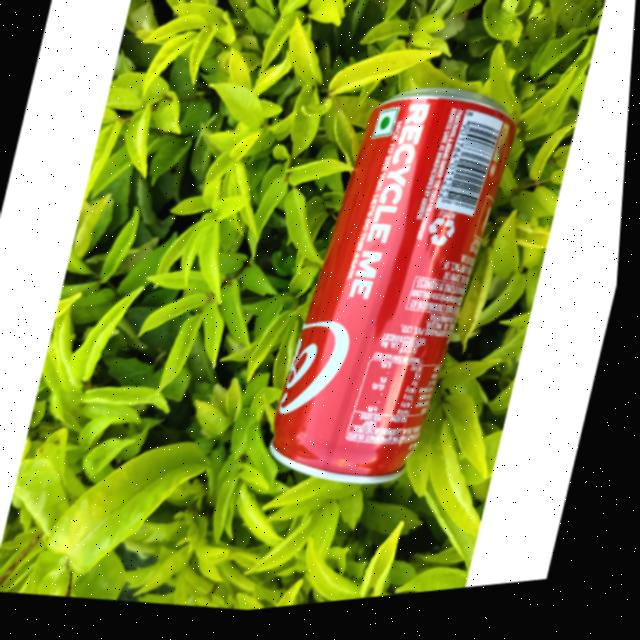Coca Cola: (256, 68, 547, 516)
